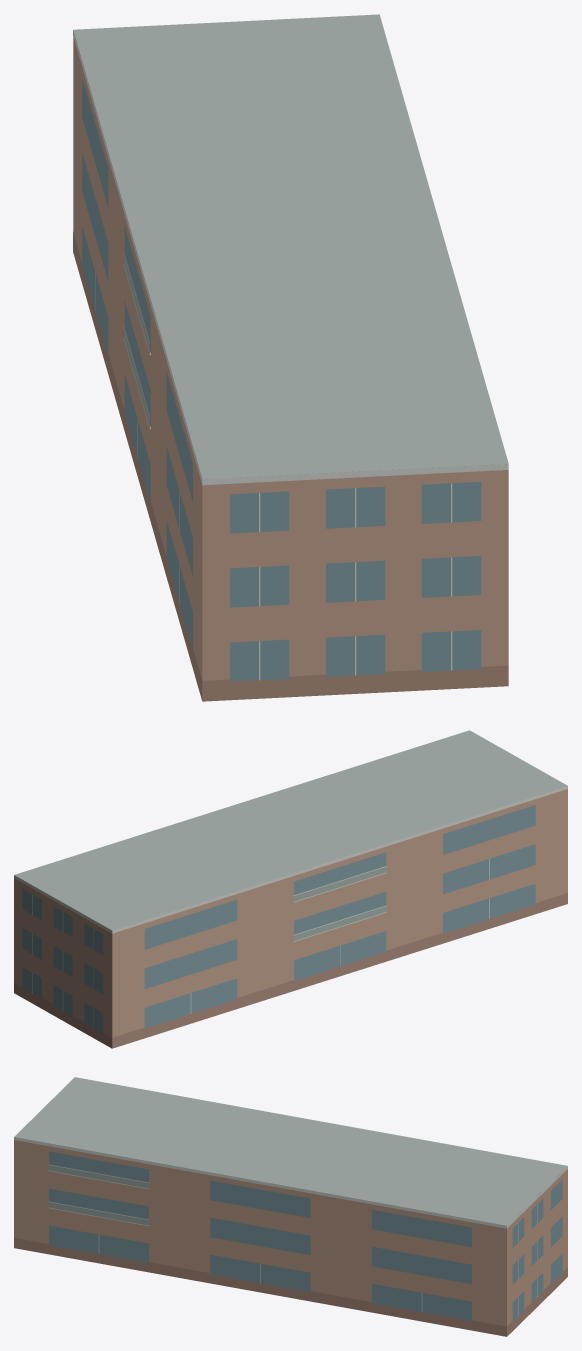
Rendered from survey-upis-32797653.glb.
3 views of the same model, one above another, from view 1: azimuth 30°, elevation 25°; view 2: azimuth 150°, elevation 25°; view 3: azimuth 270°, elevation 25° (orthographic). The views are drawn at different scales.
Visible parts, largest first — view 1: survey-upis-32797653.tmp; view 2: survey-upis-32797653.tmp; view 3: survey-upis-32797653.tmp.
Part boxes in pixels (x1,y1,x2,y2): survey-upis-32797653.tmp: [73, 14, 508, 701]; survey-upis-32797653.tmp: [14, 730, 567, 1048]; survey-upis-32797653.tmp: [14, 1077, 567, 1336].
Bounding box in the file's own units: 26.26 × 9.15 × 41.35.
